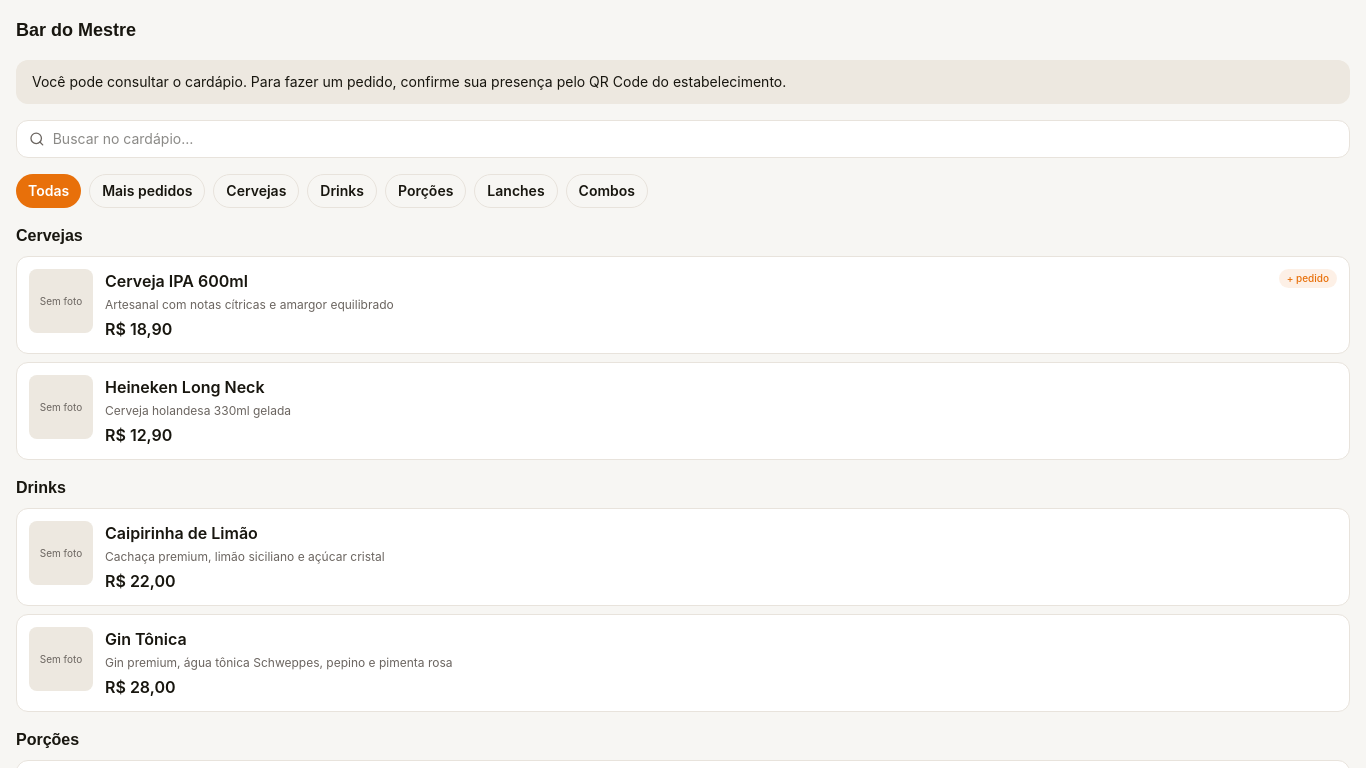
MenuScreen (cliente) › busca filtra os itens exibidos
Step 1. Type "burger" into the field with placeholder "Buscar no cardápio…" → [695, 139], box [53,129,1337,149]
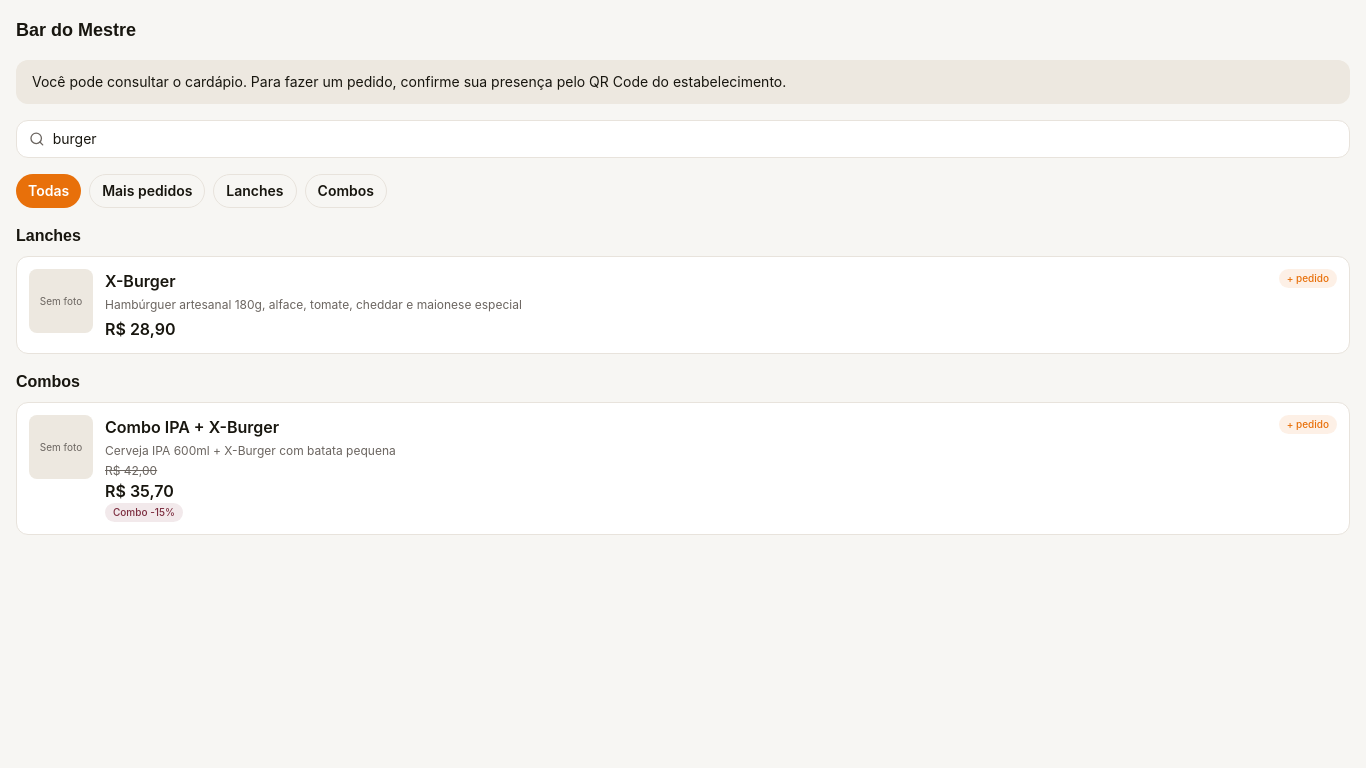
Expected: the text "X-Burger" is shown, [105,269,176,293]
Expected: the text "Caipirinha de Limão" is gone
